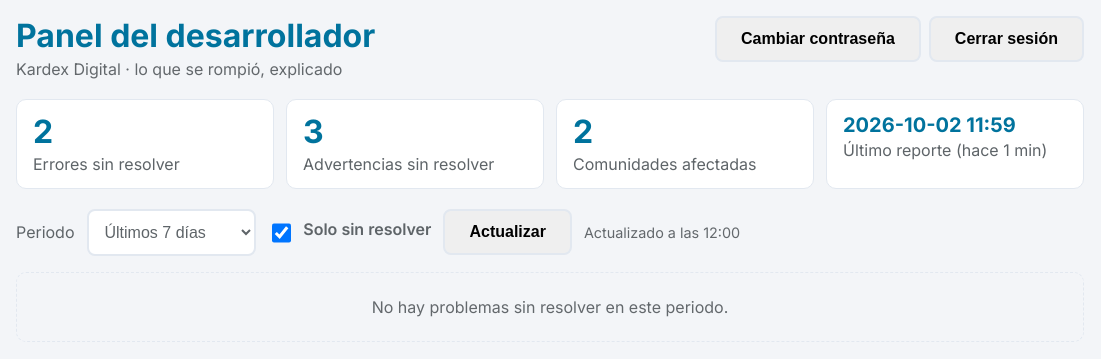
el panel: lo que se rompió, explicado › sin problemas muestra un mensaje distinto según el filtro
Expected: the text "No hay problemas sin resolver en este periodo." is shown, [16,272,1084,342]
Click the checkbox labelled "Solo sin resolver" at (281, 233), box [272,223,291,243]
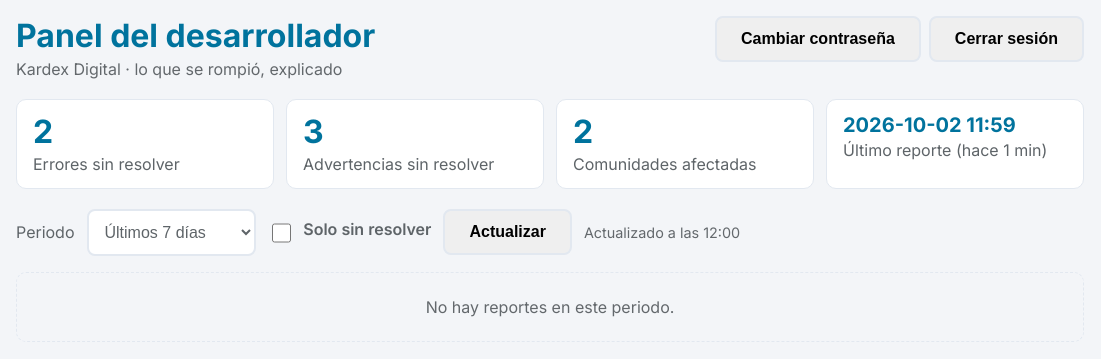
Result: the text "No hay reportes en este periodo." is shown at [16,272,1084,342]
